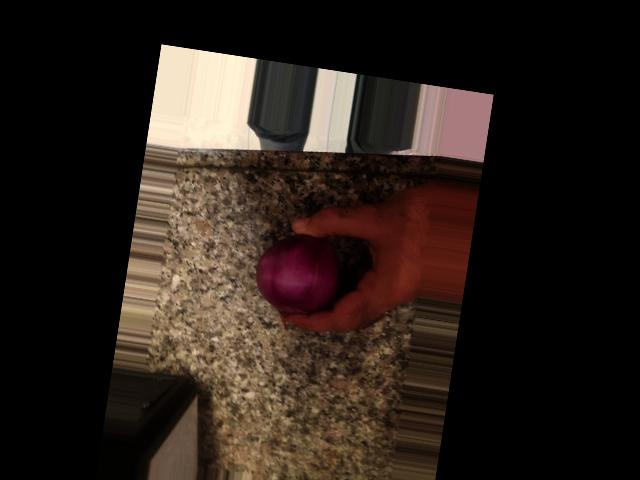onion: (254, 225, 342, 322)
